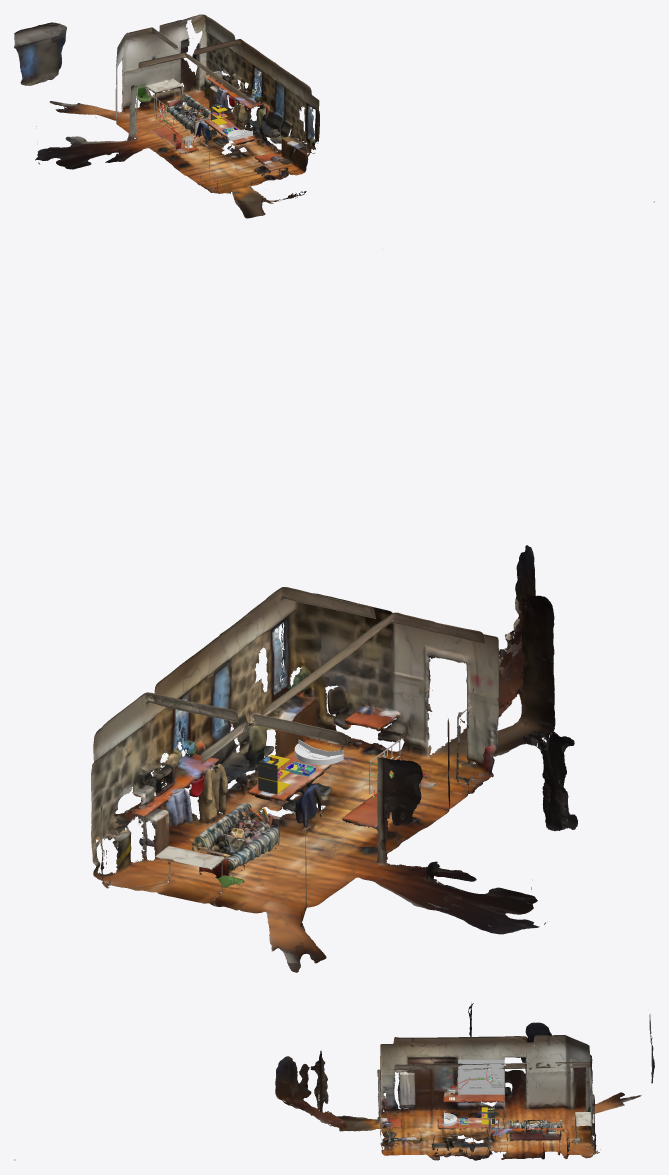
File: modelo.glb
3 renders of one model, top to bottom at view 1: azimuth 30°, elevation 25°; view 2: azimuth 150°, elevation 25°; view 3: azimuth 270°, elevation 25°, orthographic. The views are drawn at different scales.
Parts seen in each view (by area): view 1: 2, 1; view 2: 2, 1; view 3: 2, Mesh2.002, 1.
Part boxes in pixels (x1,y1,x2,y2): 2: (14,14,319,218); 1: (166,94,210,134); 2: (91,545,577,972); 1: (192,803,280,878); 2: (275,1002,654,1160); Mesh2.002: (458,1059,504,1094); 1: (508,1119,562,1141).
Size of the model in its own units: 14.6 by 3.25 by 23.83.
36 materials, 1 textured.
